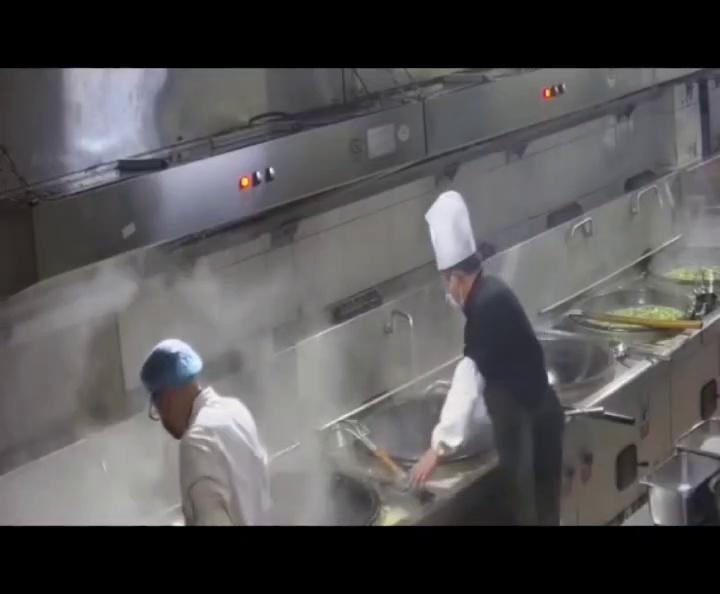gloves: (142, 340, 200, 385)
